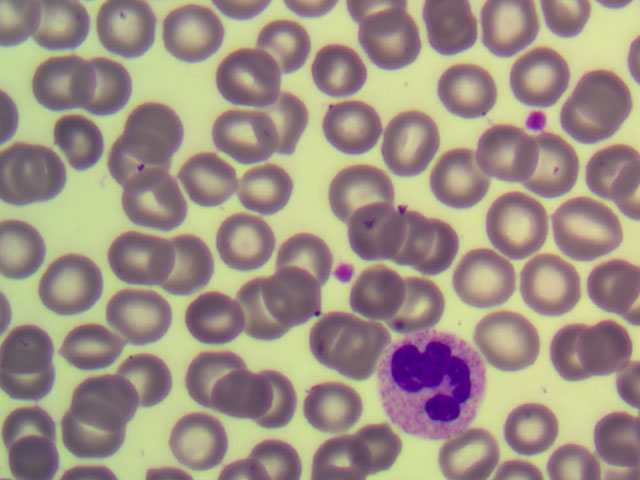Platelets: (332, 263, 358, 282), (522, 110, 549, 128)
RBC: (542, 425, 599, 480), (312, 425, 369, 480), (13, 425, 70, 480), (32, 2, 89, 56), (30, 54, 87, 108), (86, 61, 143, 115), (154, 9, 211, 63), (214, 54, 271, 108), (244, 21, 301, 75), (255, 96, 312, 150), (224, 108, 281, 162), (179, 140, 236, 194), (142, 168, 199, 222), (104, 140, 161, 194), (125, 102, 182, 156), (51, 112, 108, 166), (3, 153, 60, 207), (39, 254, 96, 308), (108, 236, 165, 290), (160, 231, 217, 285), (216, 214, 273, 268), (243, 160, 300, 214), (339, 162, 396, 216), (329, 105, 386, 159), (310, 42, 367, 96), (369, 11, 426, 65), (423, 7, 480, 61), (511, 48, 568, 102), (438, 63, 495, 117), (382, 114, 439, 168), (431, 159, 488, 213), (474, 123, 531, 177), (518, 133, 575, 187), (572, 95, 629, 149), (574, 56, 631, 110), (583, 141, 640, 195), (560, 200, 617, 254), (485, 192, 542, 246), (517, 256, 574, 310), (583, 325, 640, 379), (553, 329, 610, 383), (583, 416, 640, 470), (506, 401, 563, 455), (447, 424, 504, 478), (353, 414, 410, 468), (301, 381, 358, 435), (243, 372, 300, 426), (215, 368, 272, 422), (191, 338, 248, 392), (125, 353, 182, 407), (84, 371, 141, 425), (60, 407, 117, 461), (3, 409, 60, 463), (2, 368, 59, 422), (3, 325, 60, 379), (67, 315, 124, 369), (101, 293, 158, 347), (199, 286, 256, 340), (248, 284, 305, 338), (267, 267, 324, 321), (270, 230, 327, 284), (345, 201, 402, 255), (385, 203, 442, 257), (411, 222, 468, 276), (394, 274, 451, 328), (359, 264, 416, 318), (334, 323, 391, 377), (308, 311, 365, 365), (478, 318, 535, 372), (459, 257, 516, 311), (583, 260, 640, 314), (1, 225, 57, 279), (99, 1, 156, 54), (477, 1, 534, 54)
WBC: (377, 329, 488, 443)
